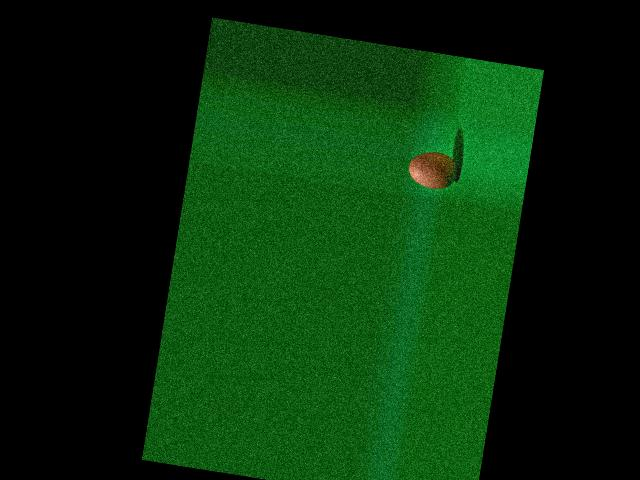egg: (406, 148, 460, 192)
